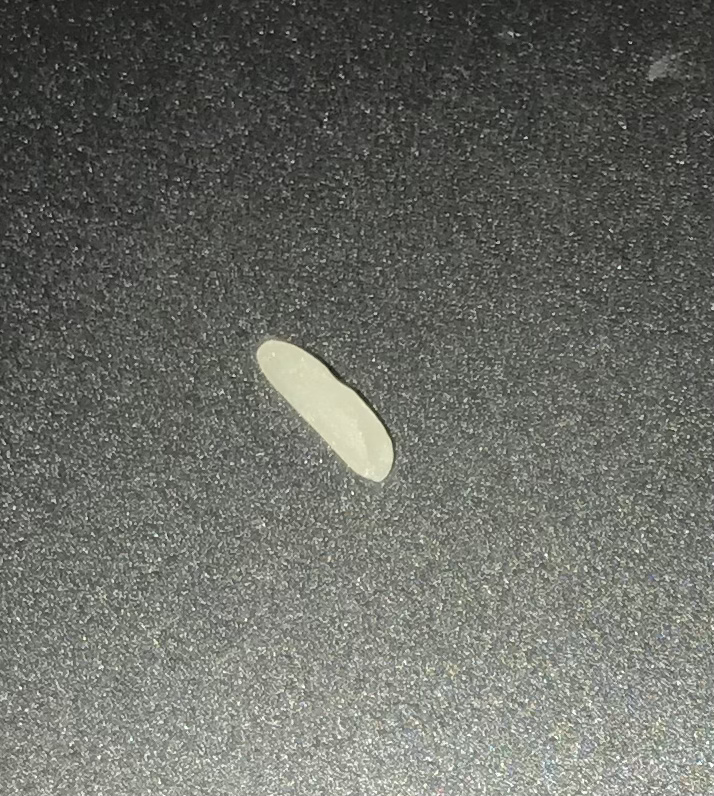Gao Tam Thom: (251, 326, 409, 493)
